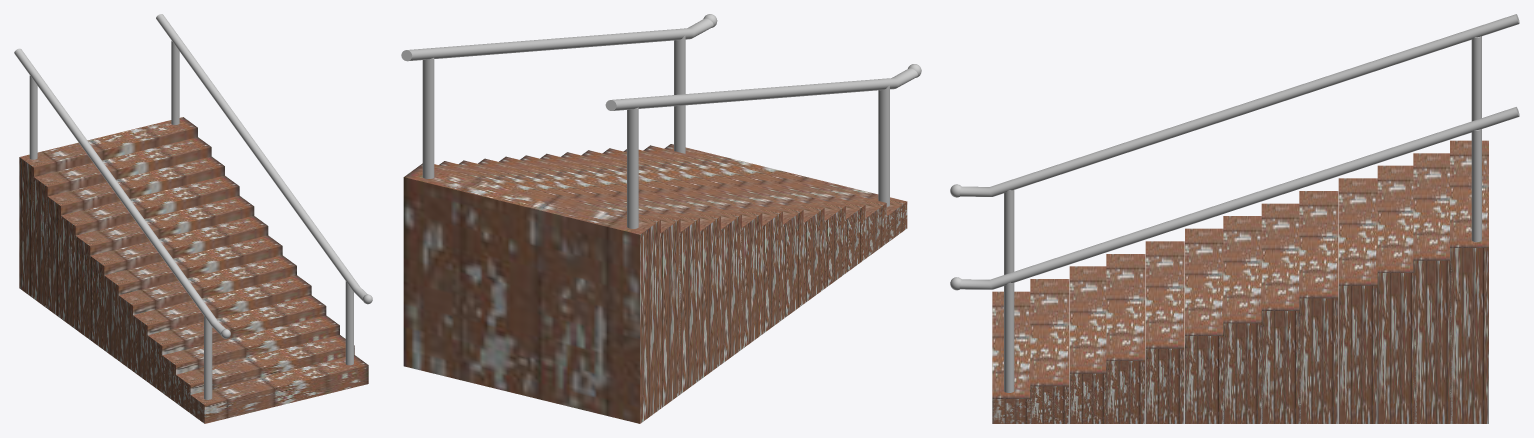
Rendered from StairsFBX 1.fbx.
3 views of the same model, side by side, from view 1: azimuth 30°, elevation 25°; view 2: azimuth 150°, elevation 25°; view 3: azimuth 270°, elevation 25° (orthographic). The views are drawn at different scales.
Parts seen in each view (by area): view 1: pCube1, pCube13, pCube12, pCube10, pCube11, pCube9, pCube8, pCube7, pCube6, pCube5, pCube3, pCube4 (+7 smaller); view 2: pCube13, pCube12, pCube10, pCube11, pCube9, pCube8, pCube7, pCube6, pPipe6, pPipe5, pCube5, pCube3 (+7 smaller); view 3: pCube13, pCube11, pCube12, pCube10, pCube9, pCube8, pCube7, pCube6, pCube5, pCube3, pPipe6, pPipe5 (+7 smaller).
Boxes of the visible parts, <box> form: pCube1: <box>190,355,368,423</box>; pCube13: <box>19,117,197,297</box>; pCube12: <box>33,137,211,308</box>; pCube10: <box>61,175,239,328</box>; pCube11: <box>46,156,224,318</box>; pCube9: <box>75,195,254,339</box>; pCube8: <box>89,216,268,349</box>; pCube7: <box>104,235,282,360</box>; pCube6: <box>118,255,296,370</box>; pCube5: <box>133,275,311,381</box>; pCube3: <box>147,295,326,391</box>; pCube4: <box>161,315,339,402</box>; pCube13: <box>403,163,660,423</box>; pCube12: <box>439,161,680,409</box>; pCube10: <box>478,158,720,379</box>; pCube11: <box>458,160,699,395</box>; pCube9: <box>499,156,741,364</box>; pCube8: <box>520,155,762,348</box>; pCube7: <box>540,153,782,334</box>; pCube6: <box>561,152,803,318</box>; pPipe6: <box>401,18,713,61</box>; pPipe5: <box>605,68,917,110</box>; pCube5: <box>581,150,824,303</box>; pCube3: <box>602,148,845,288</box>; pCube13: <box>1450,140,1488,423</box>; pCube11: <box>1377,165,1416,423</box>; pCube12: <box>1413,153,1452,423</box>; pCube10: <box>1338,178,1377,423</box>; pCube9: <box>1299,191,1338,423</box>; pCube8: <box>1261,203,1300,423</box>; pCube7: <box>1223,216,1262,423</box>; pCube6: <box>1185,228,1223,423</box>; pCube5: <box>1145,241,1184,423</box>; pCube3: <box>1106,254,1145,423</box>; pPipe6: <box>960,107,1519,289</box>; pPipe5: <box>959,14,1519,196</box>.
Size of the model in its own units: 549 by 735 by 1232.
